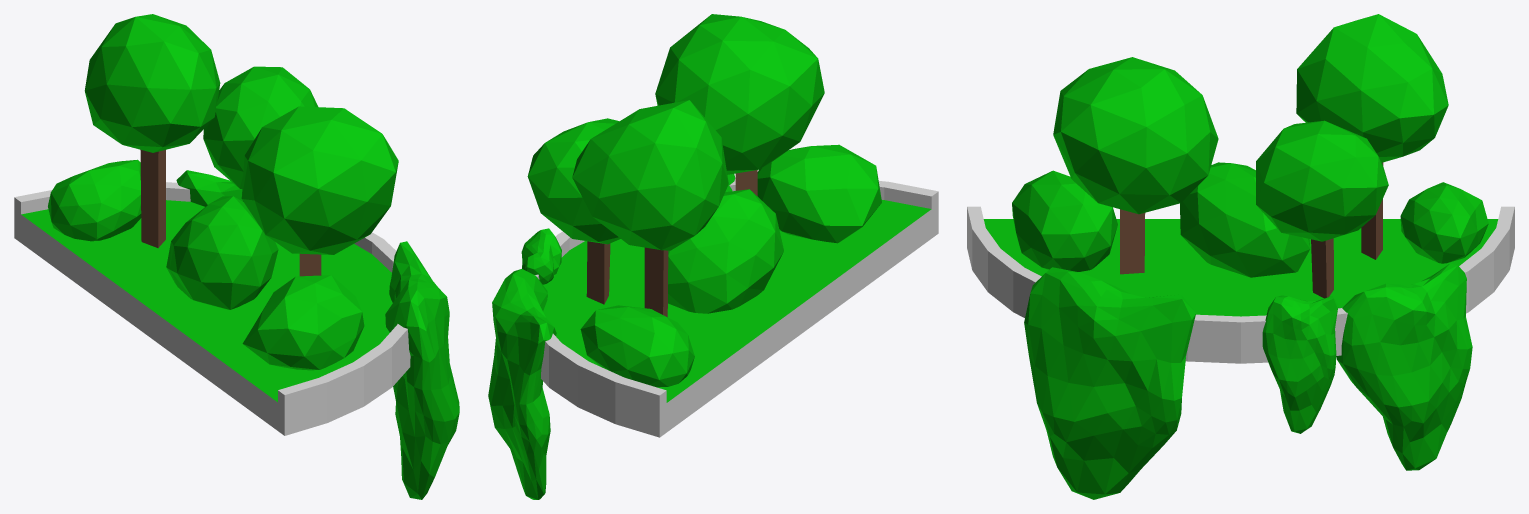
File: Pisces Planter C.fbx
3 views of the same model, side by side, from view 1: azimuth 30°, elevation 25°; view 2: azimuth 150°, elevation 25°; view 3: azimuth 270°, elevation 25° (orthographic). The views are drawn at different scales.
Parts seen in each view (by area): view 1: Cylinder; view 2: Cylinder; view 3: Cylinder.
Boxes of the visible parts, <box> form: Cylinder: <box>14,14,459,499</box>; Cylinder: <box>488,14,938,499</box>; Cylinder: <box>967,14,1514,499</box>.
Size of the model in its own units: 315 by 503 by 600.
